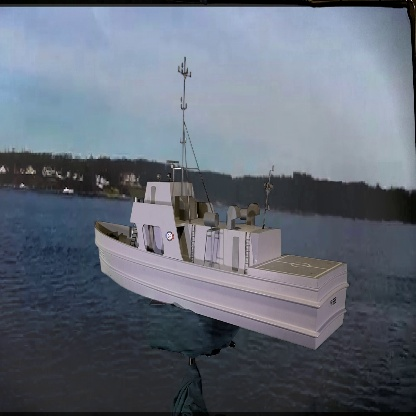YP689: (94, 55, 350, 352)
